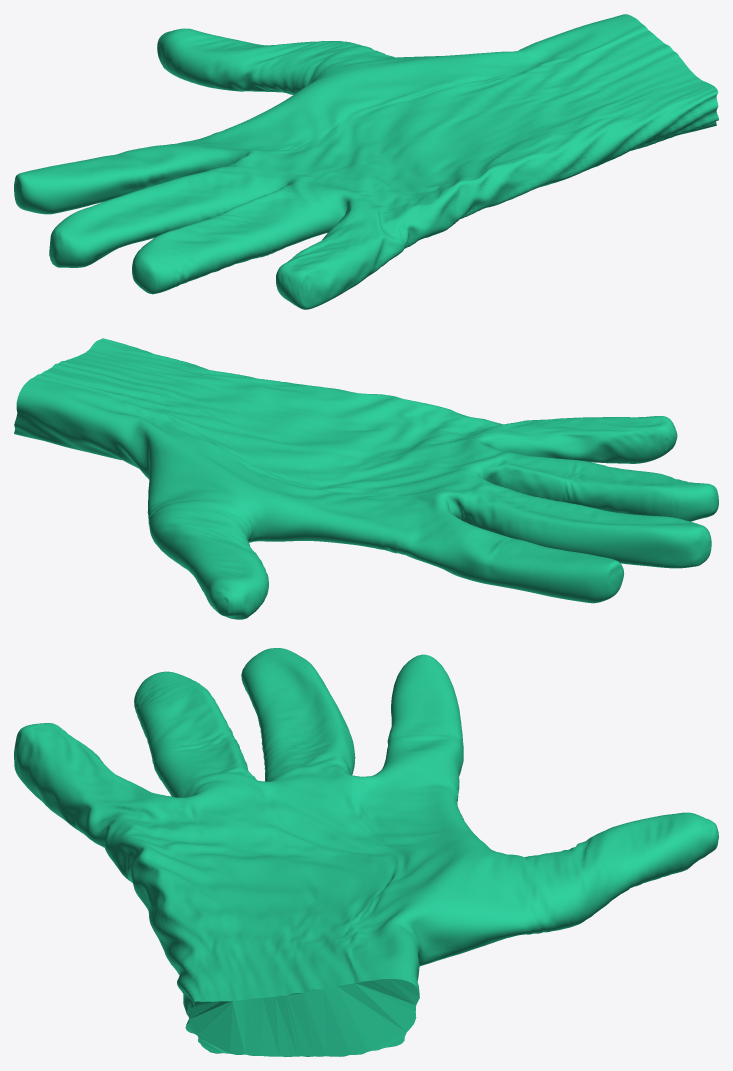
Rendered from glove2.fbx.
The picture shows the model from 3 angles, top to bottom: view 1: azimuth 30°, elevation 25°; view 2: azimuth 150°, elevation 25°; view 3: azimuth 270°, elevation 25°; orthographic projection. The views are drawn at different scales.
Parts seen in each view (by area): view 1: Cube; view 2: Cube; view 3: Cube.
Part boxes in pixels (x1,y1,x2,y2): Cube: (14, 14, 718, 309); Cube: (14, 338, 718, 619); Cube: (14, 648, 718, 1056).
Size of the model in its own units: 365 by 36.34 by 288.
